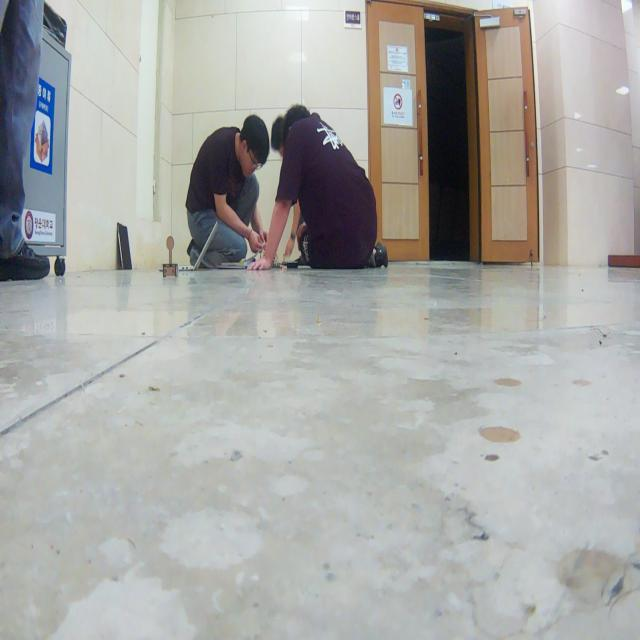target: (162, 236, 179, 277)
